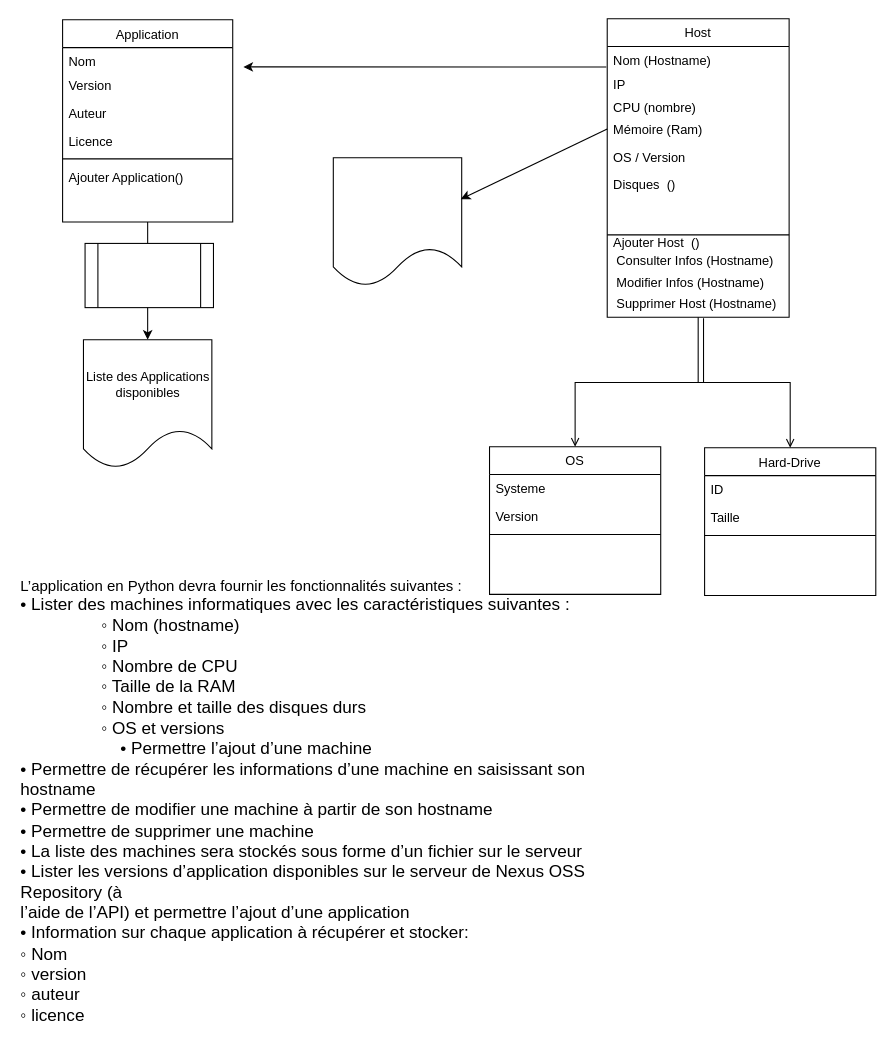
This 895x1050 diagram has some shape labels left out. The shapes that lost their labels are listed below. From the top down, each one's centre as x and y in pixels, then its label:
pixel 397 221: Liste des Machines ()
pixel 148 275: Process Liste desApplcations disponibles
